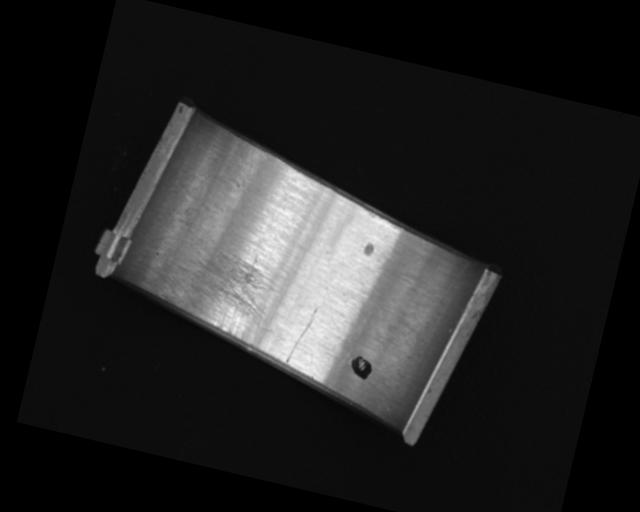blot: (346, 354, 374, 381)
bruise: (362, 241, 375, 258)
nick: (403, 249, 469, 346), (285, 302, 320, 367)
scratch: (151, 236, 280, 349)
